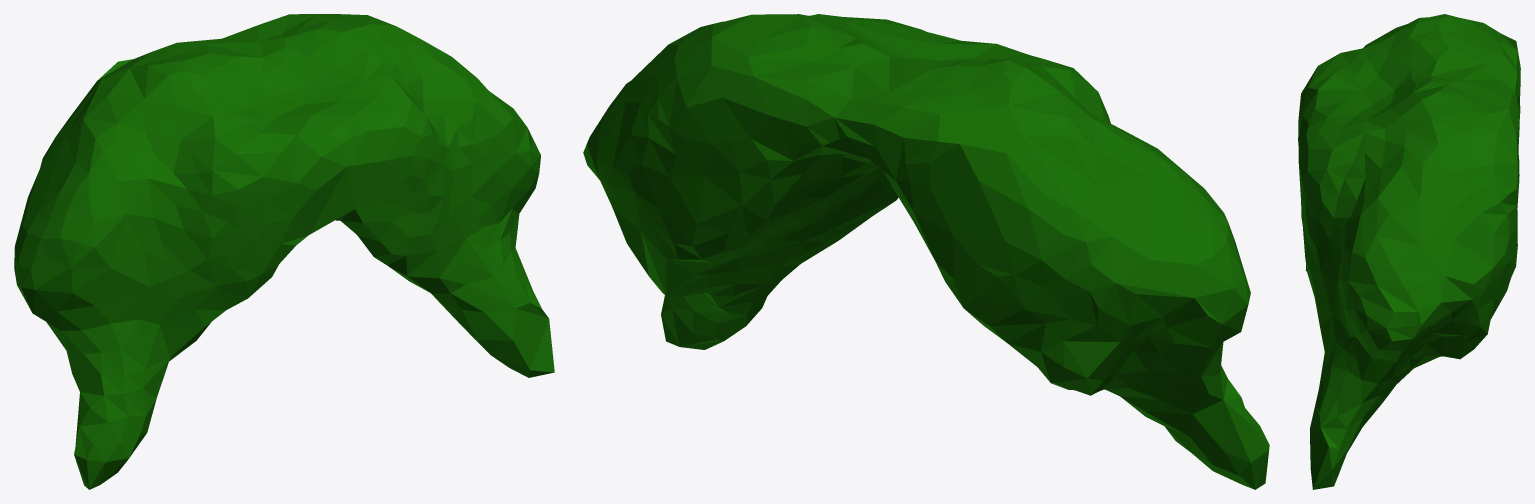
The model's file is 151-23x-unnamed region sections 102-114, called 23 more anteriorly-('0.0941', '0.4980', '0.0000').obj.
3 renders of one model, left to right at view 1: azimuth 30°, elevation 25°; view 2: azimuth 150°, elevation 25°; view 3: azimuth 270°, elevation 25°, orthographic. The views are drawn at different scales.
Size of the model in its own units: 92.46 by 58.42 by 36.16.
